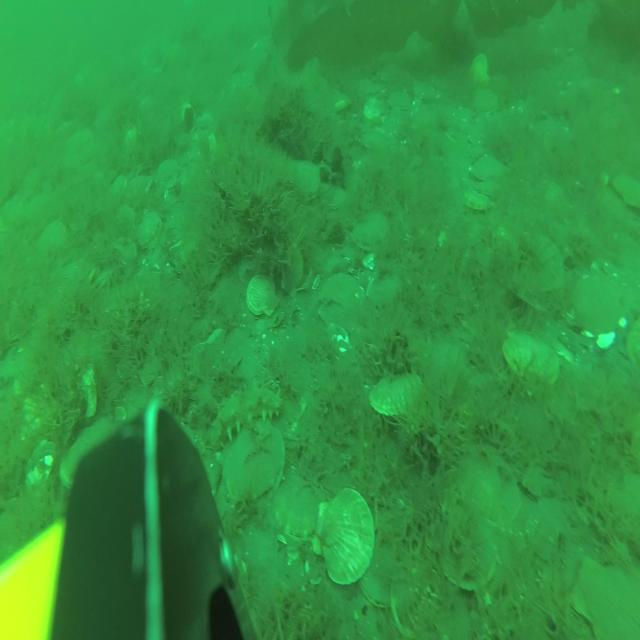holothurian: (209, 383, 282, 452)
scallop: (567, 558, 635, 640), (315, 489, 373, 585), (463, 446, 521, 534), (57, 414, 118, 497), (222, 426, 283, 508), (444, 496, 496, 588), (390, 561, 447, 640), (268, 460, 319, 548), (508, 234, 562, 310), (566, 271, 623, 339), (359, 526, 405, 610), (501, 328, 560, 393), (526, 498, 568, 566), (370, 372, 422, 424), (270, 237, 306, 295), (354, 207, 389, 250), (245, 271, 276, 315), (38, 221, 72, 260), (289, 159, 321, 200), (615, 171, 640, 219), (470, 151, 504, 184), (471, 86, 499, 120), (136, 207, 162, 243), (469, 51, 491, 88), (388, 85, 416, 114), (113, 234, 138, 266), (466, 188, 490, 219), (364, 96, 388, 124), (476, 177, 502, 200)
